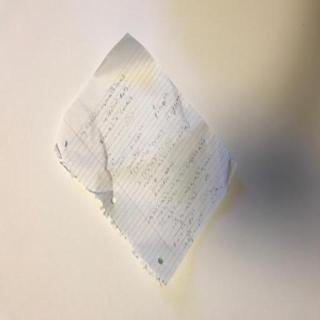Anorganik: (49, 28, 243, 288)
